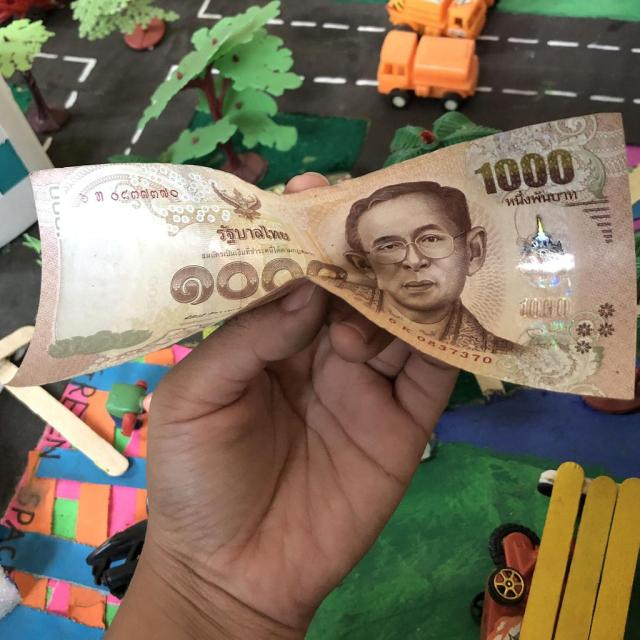THAI1000: (7, 114, 634, 397)
